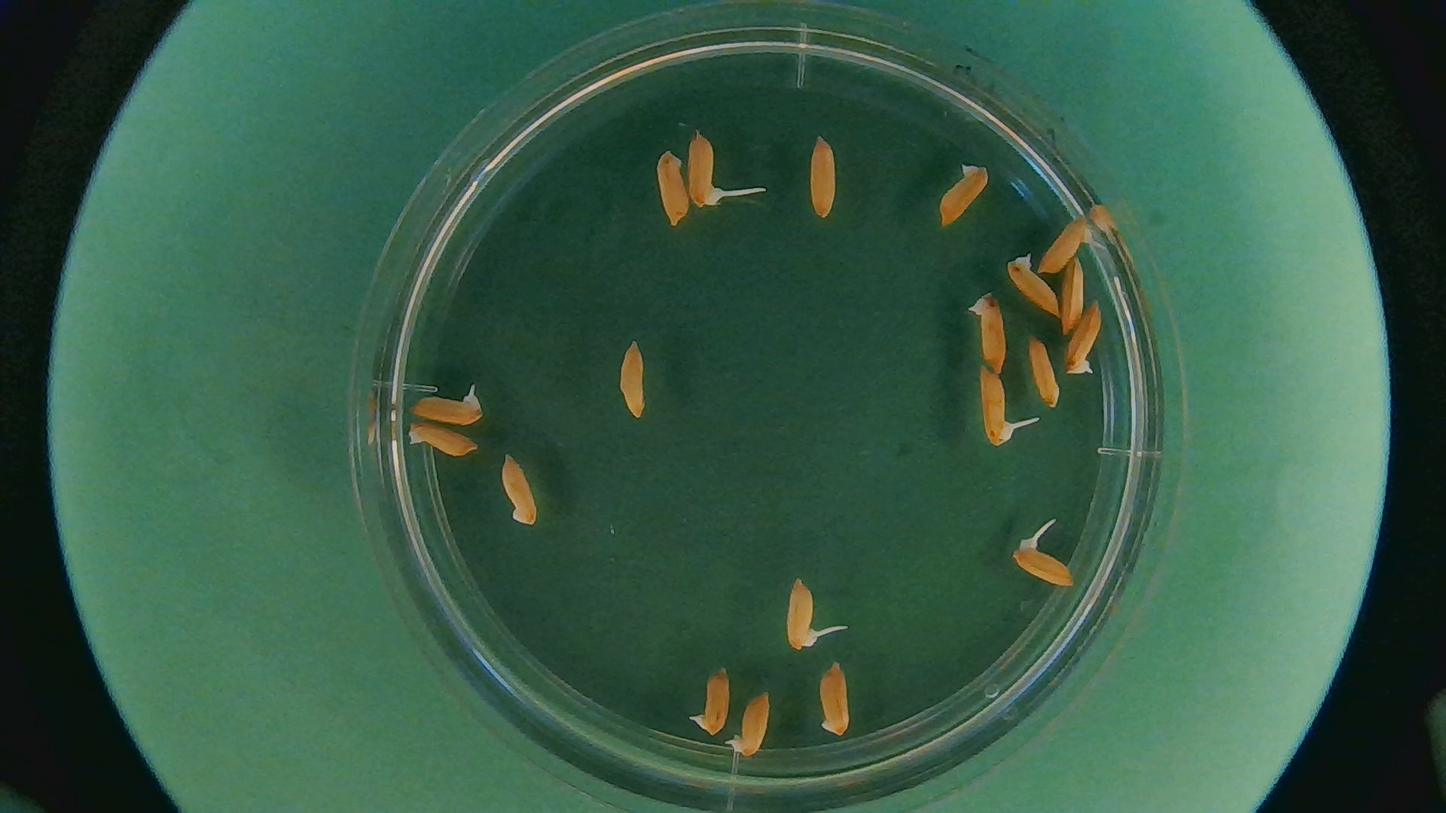no: (1005, 248, 1063, 324), (1060, 295, 1107, 380), (1052, 254, 1094, 338), (819, 662, 864, 739), (936, 160, 989, 223), (969, 290, 1008, 375), (805, 132, 842, 220), (654, 148, 694, 228), (1027, 330, 1064, 414), (401, 419, 482, 457), (499, 455, 538, 531), (620, 340, 652, 425)
yes: (1041, 215, 1098, 278), (410, 387, 484, 430), (1011, 542, 1073, 593), (979, 366, 1017, 447), (784, 577, 819, 653), (731, 693, 770, 757), (686, 131, 718, 207), (697, 668, 730, 738)
